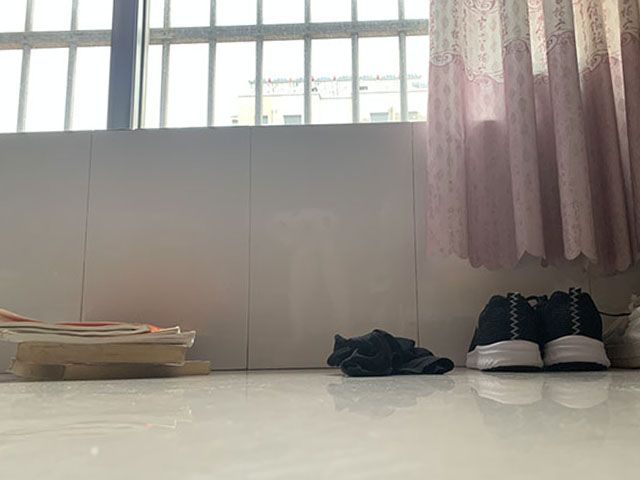book: (1, 307, 212, 382)
socks: (327, 328, 458, 377)
